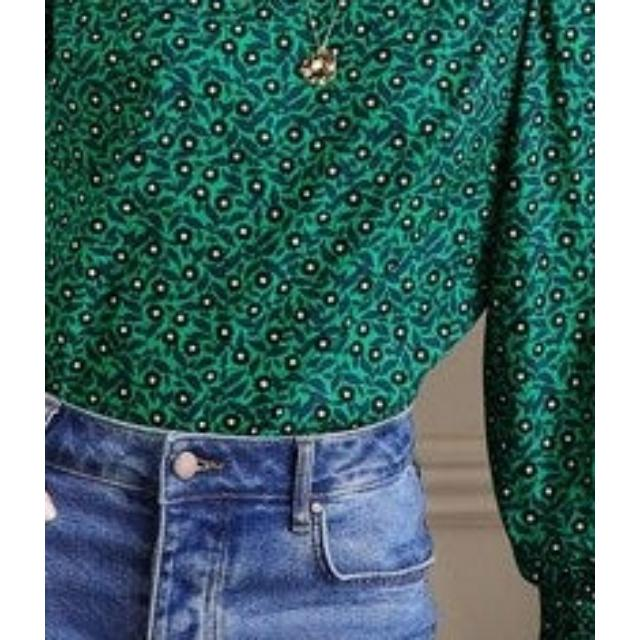cotton: (45, 0, 595, 356)
